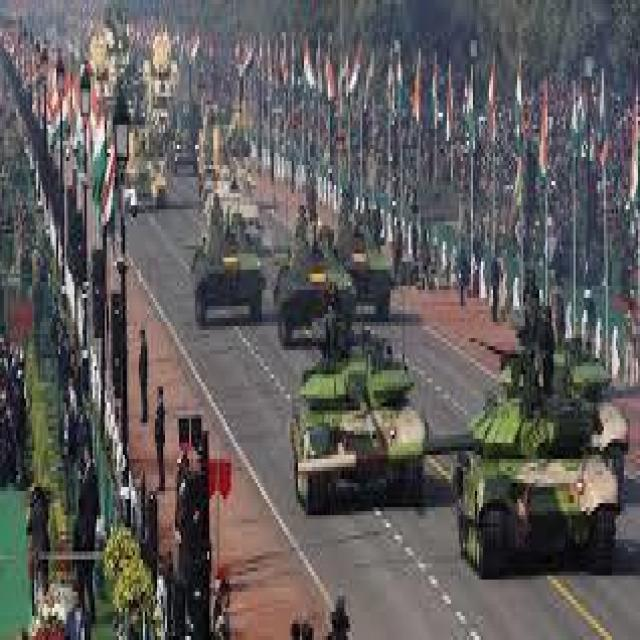Tanks: (414, 280, 574, 614), (280, 324, 430, 558), (99, 58, 207, 204), (268, 183, 356, 344), (316, 175, 409, 324), (177, 201, 270, 338)
